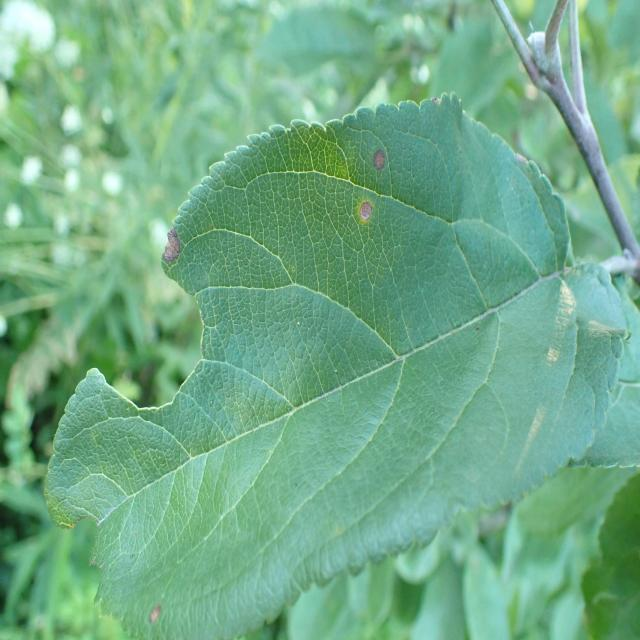frog-eye-leaf-spot: (43, 90, 632, 640)
